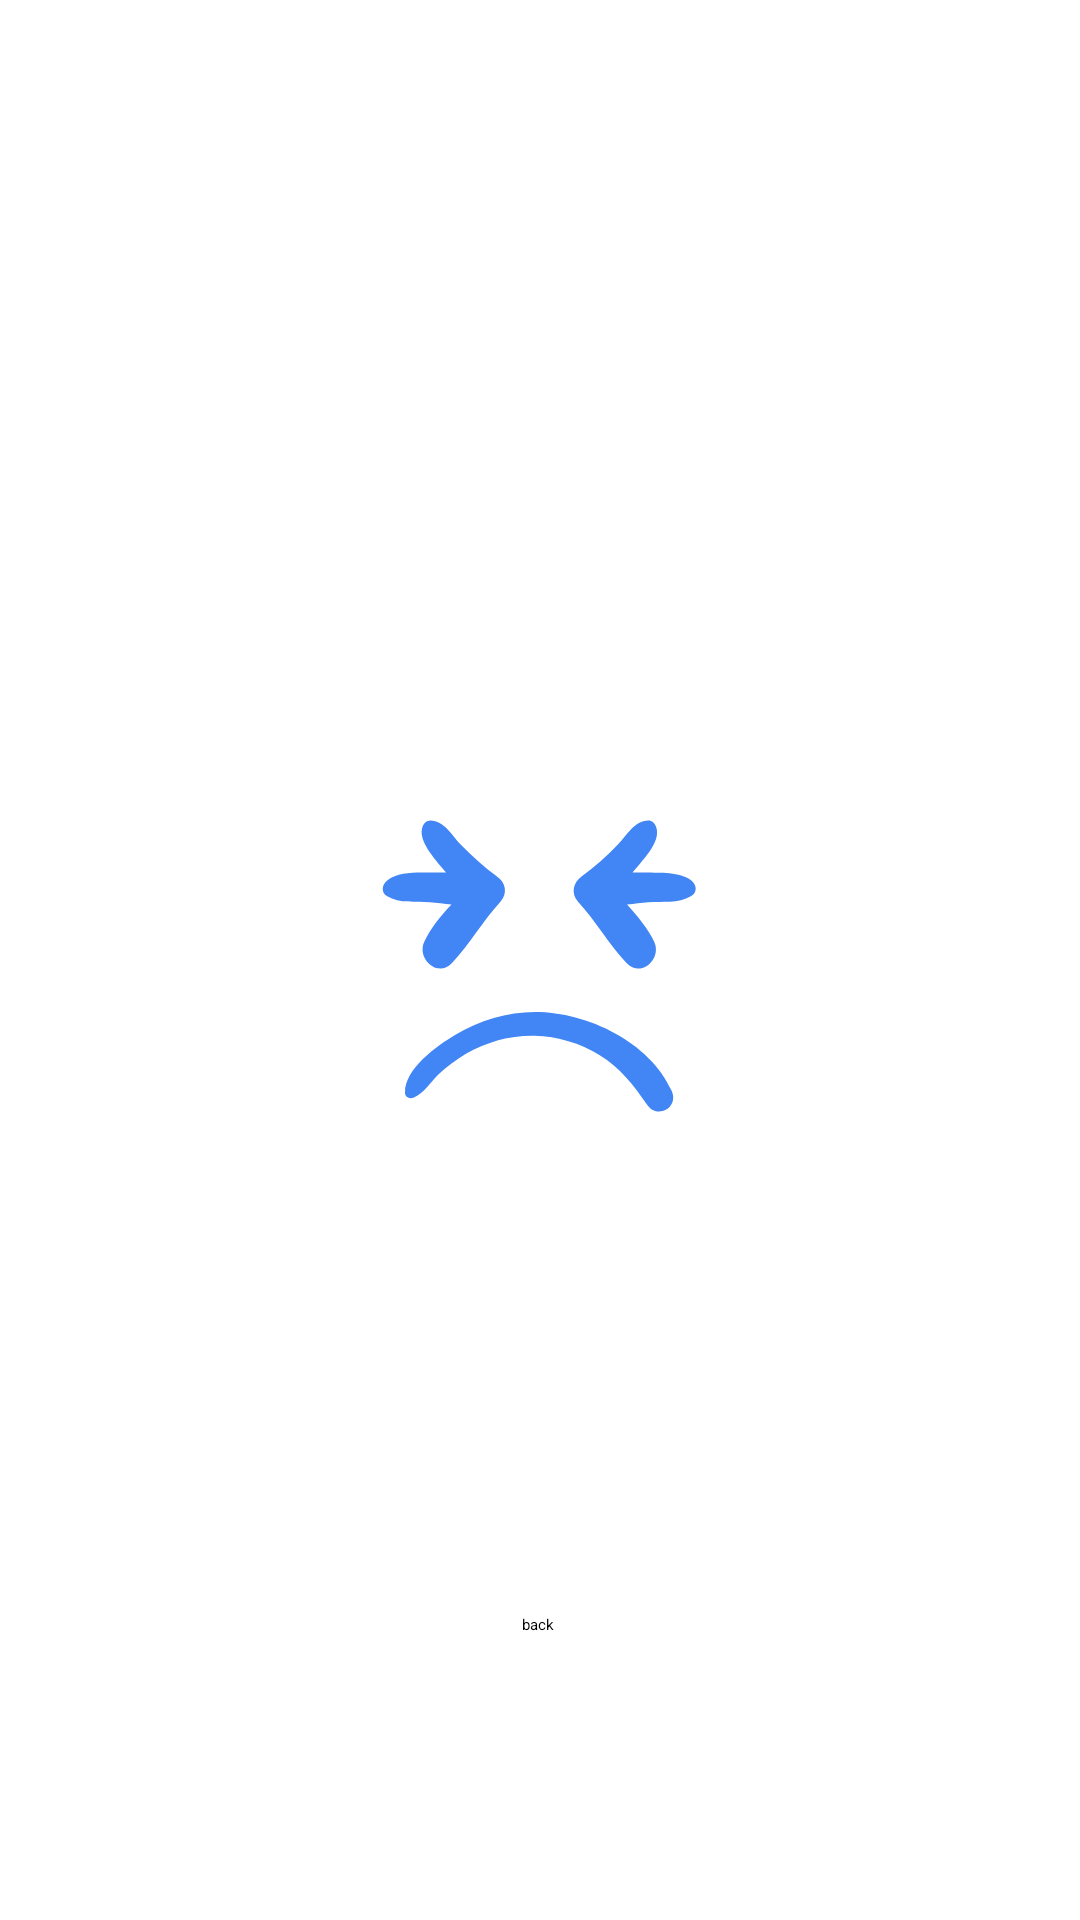

Icon bounding boxes for this 1080 × 1920 phone screenshot, format (x1, y1, x2, y2):
sad: (382, 820, 696, 1112)
